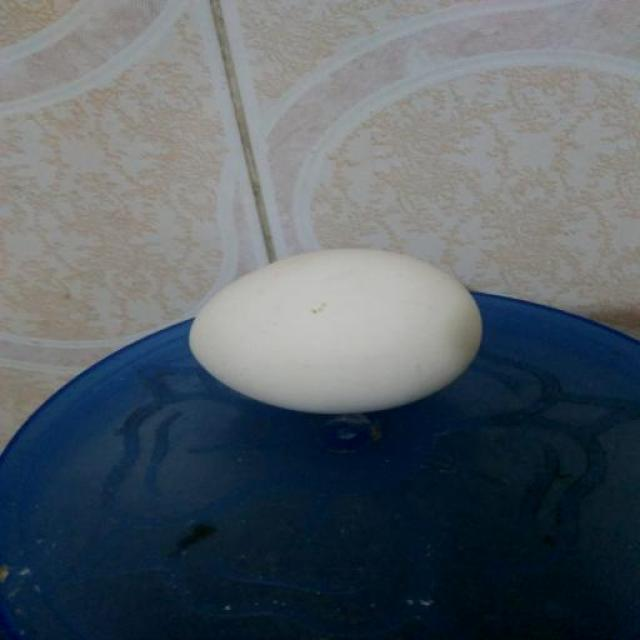telur: (187, 243, 485, 419)
